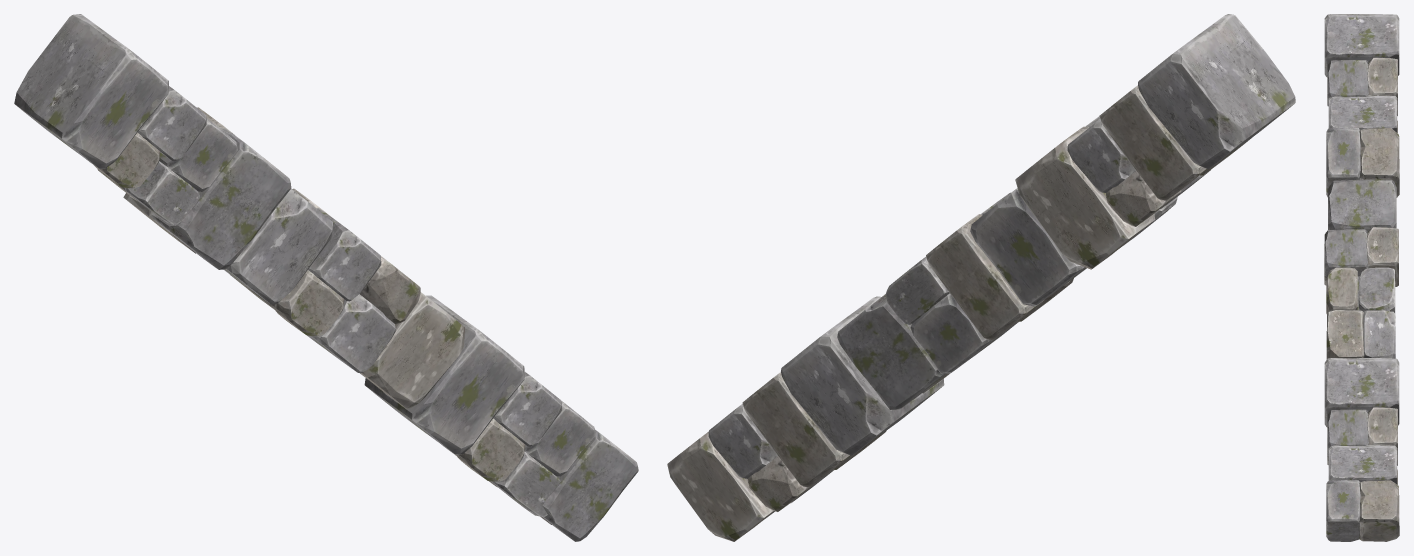
The picture shows the model from 3 angles, left to right: view 1: azimuth 30°, elevation 25°; view 2: azimuth 150°, elevation 25°; view 3: azimuth 270°, elevation 25°; orthographic projection. The views are drawn at different scales.
Visible parts, largest first — view 1: SM_BB_T3_Beam_Thick_Diagonal_LOD0; view 2: SM_BB_T3_Beam_Thick_Diagonal_LOD0; view 3: SM_BB_T3_Beam_Thick_Diagonal_LOD0.
Boxes of the visible parts, bbox=[...] form: SM_BB_T3_Beam_Thick_Diagonal_LOD0: bbox=[14, 14, 638, 541]; SM_BB_T3_Beam_Thick_Diagonal_LOD0: bbox=[667, 14, 1295, 541]; SM_BB_T3_Beam_Thick_Diagonal_LOD0: bbox=[1324, 14, 1399, 541].
Size of the model in its own units: 3.39 by 3.38 by 0.5983.
1 material, 1 textured.
